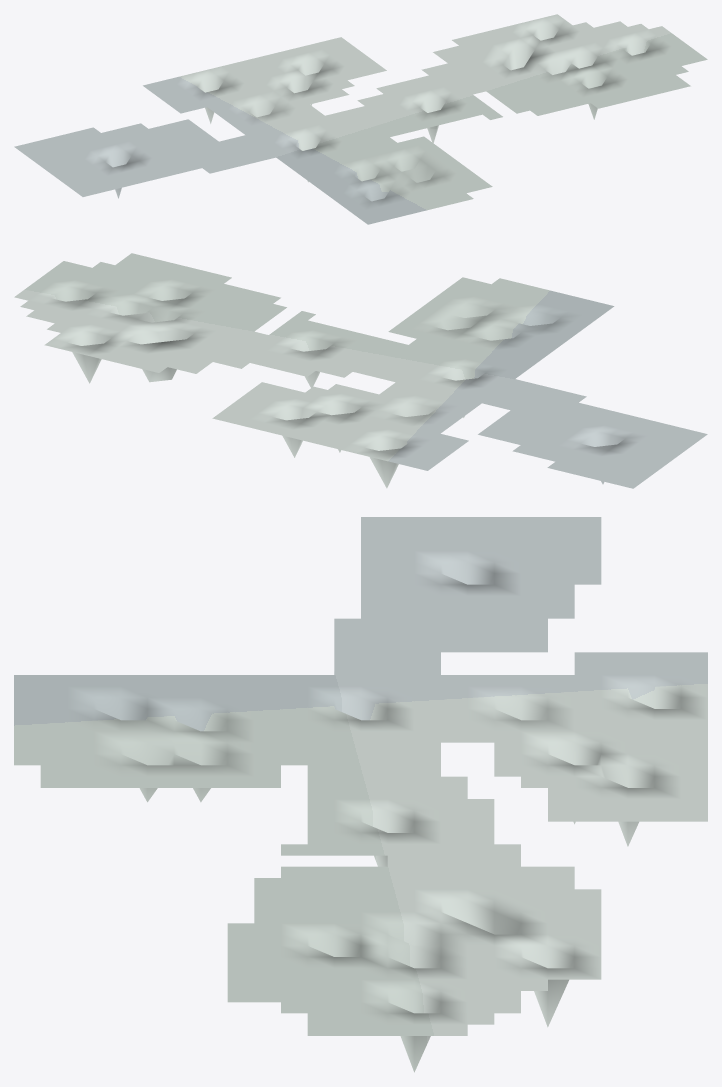
The model's file is SM_CaveRoof.fbx.
The picture shows the model from 3 angles, top to bottom: view 1: azimuth 30°, elevation 25°; view 2: azimuth 150°, elevation 25°; view 3: azimuth 270°, elevation 25°; orthographic projection. The views are drawn at different scales.
Visible parts, largest first — view 1: caveroof_geo; view 2: caveroof_geo; view 3: caveroof_geo.
Part boxes in pixels (x1,y1,x2,y2): caveroof_geo: (14, 14, 707, 224); caveroof_geo: (14, 253, 707, 488); caveroof_geo: (14, 517, 707, 1072).
Bounding box in the file's own units: 18537 × 1177 × 10477.
1 material, 1 textured.
